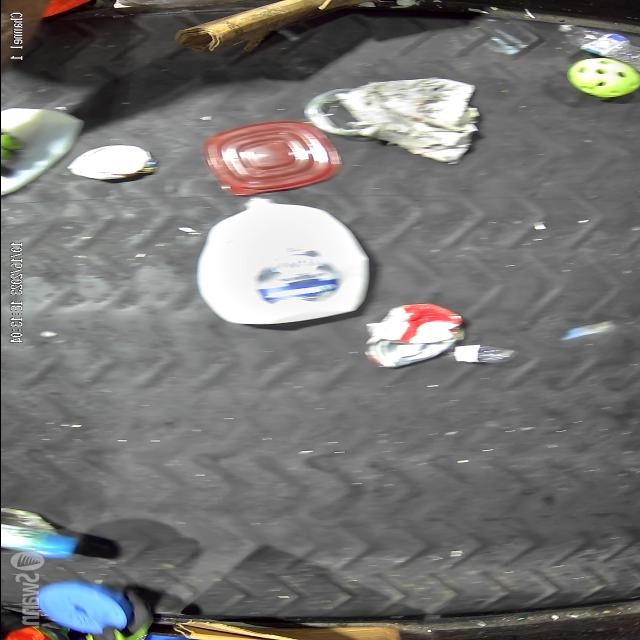can: (362, 303, 466, 368)
milk_jug: (194, 199, 368, 325), (0, 108, 84, 196)
plastic_bottle: (555, 24, 640, 72)
